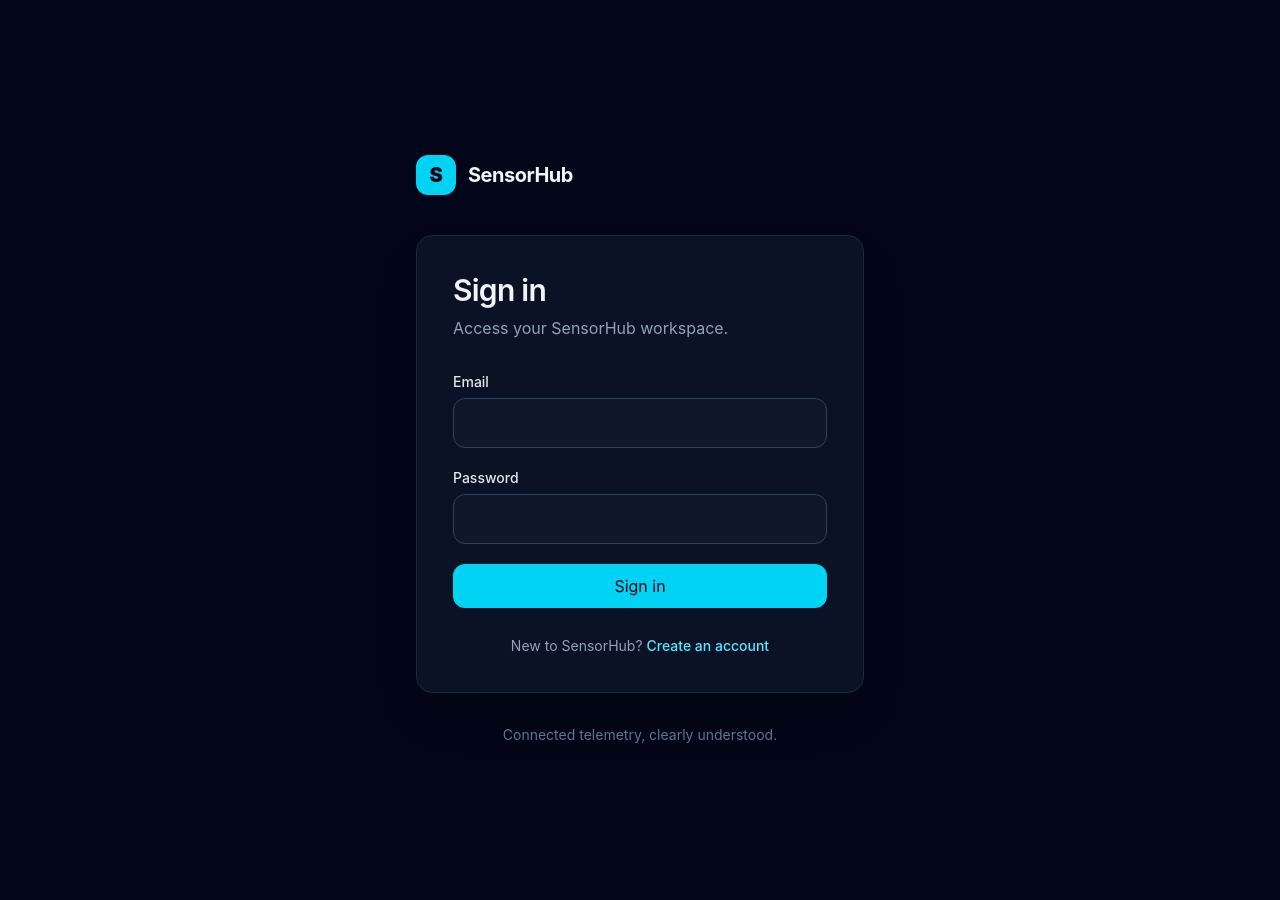
Test: SPA authentication › submits login and displays the authenticated shell
Type "alex@example.test" into the field labelled "Email" at (640, 423), box [453,398,827,448]
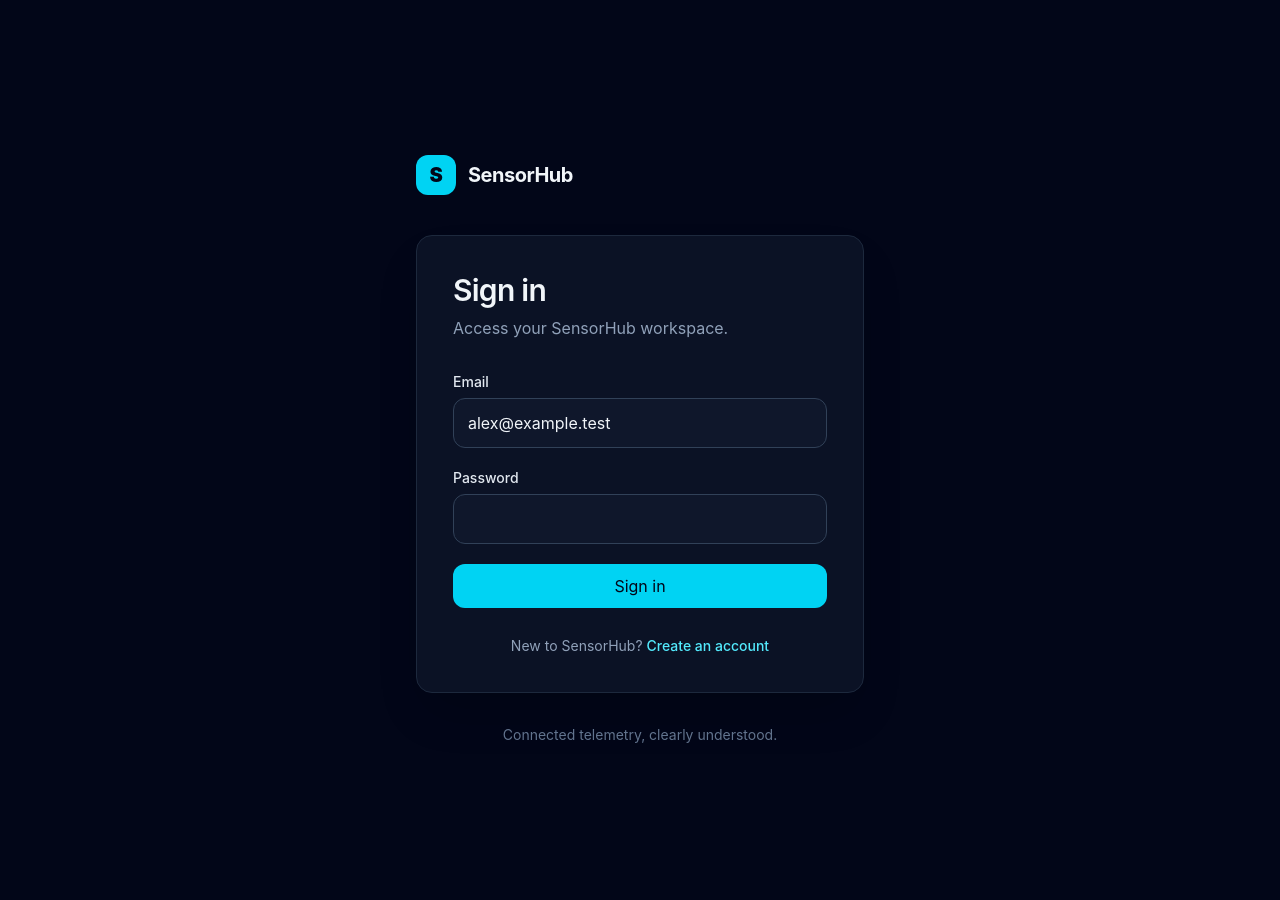
Type "password123" into the password field labelled "Password" at (640, 519), box [453,494,827,544]
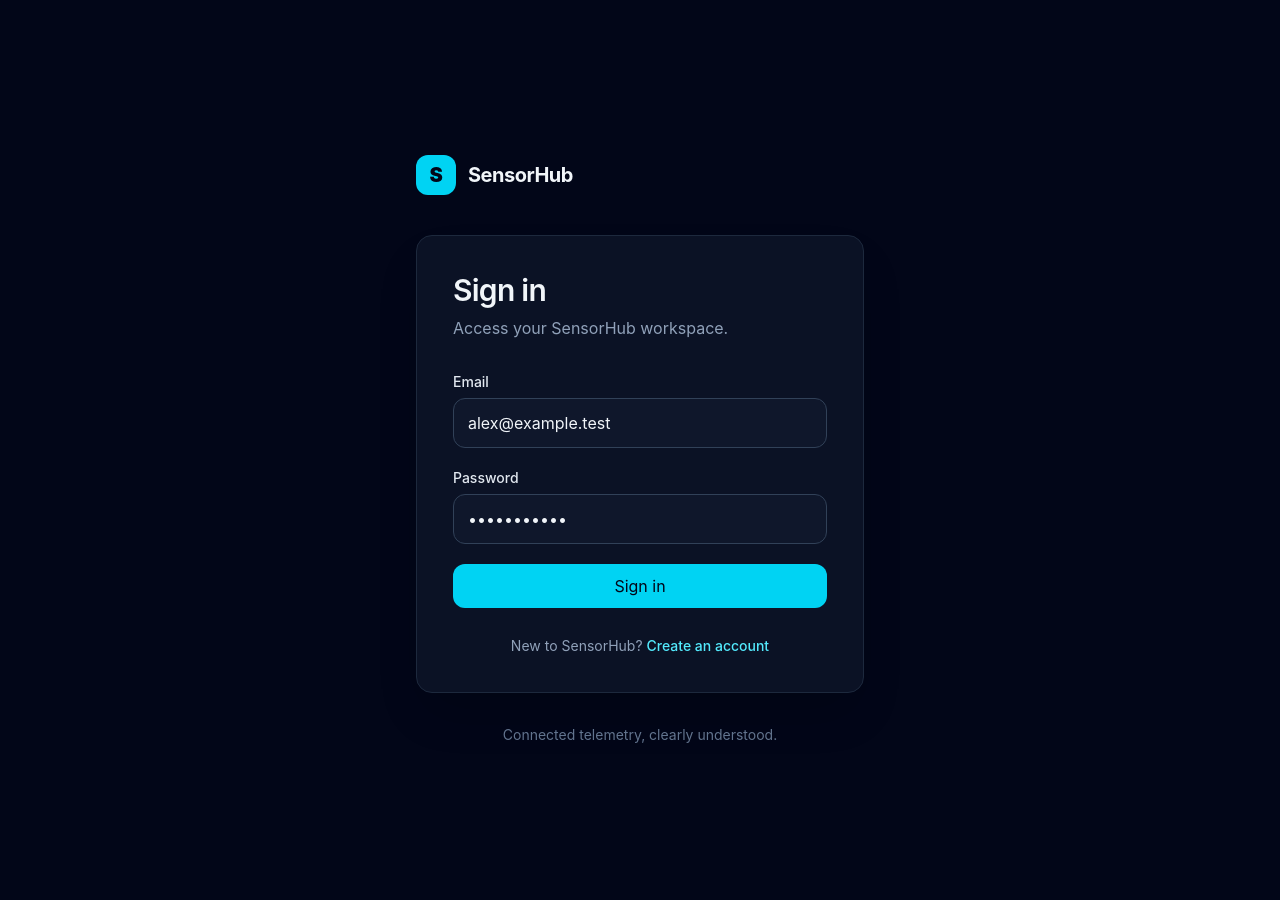
Click the button "Sign in" at (640, 586), box [453,564,827,608]
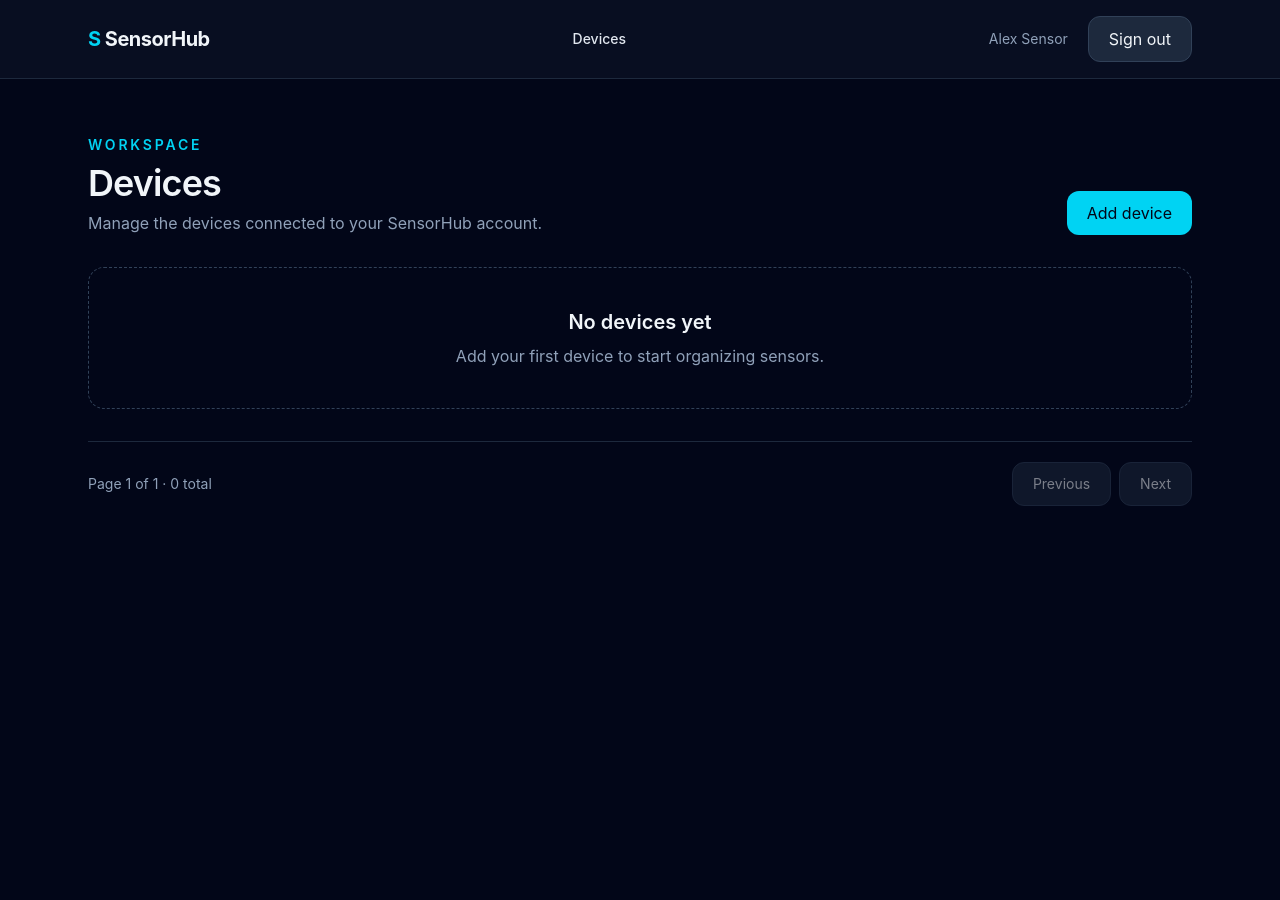
Result: the heading "Devices" is shown at [88,161,221,205]
